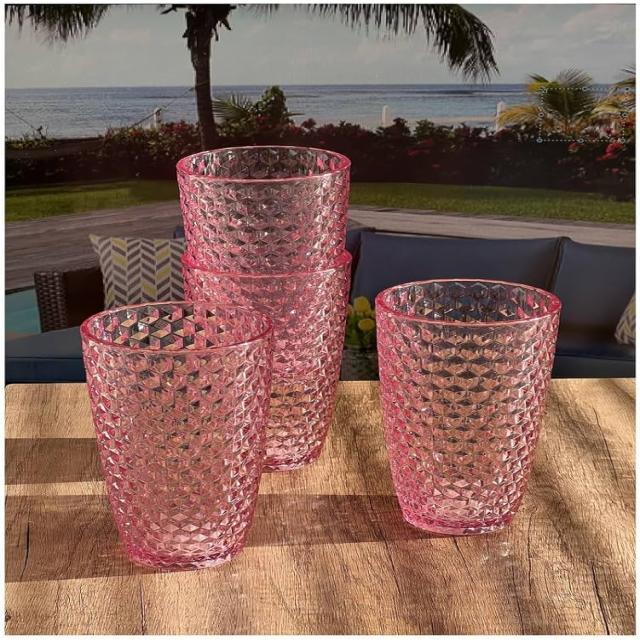glass: (137, 122, 369, 511), (342, 270, 588, 575), (66, 302, 324, 587)
